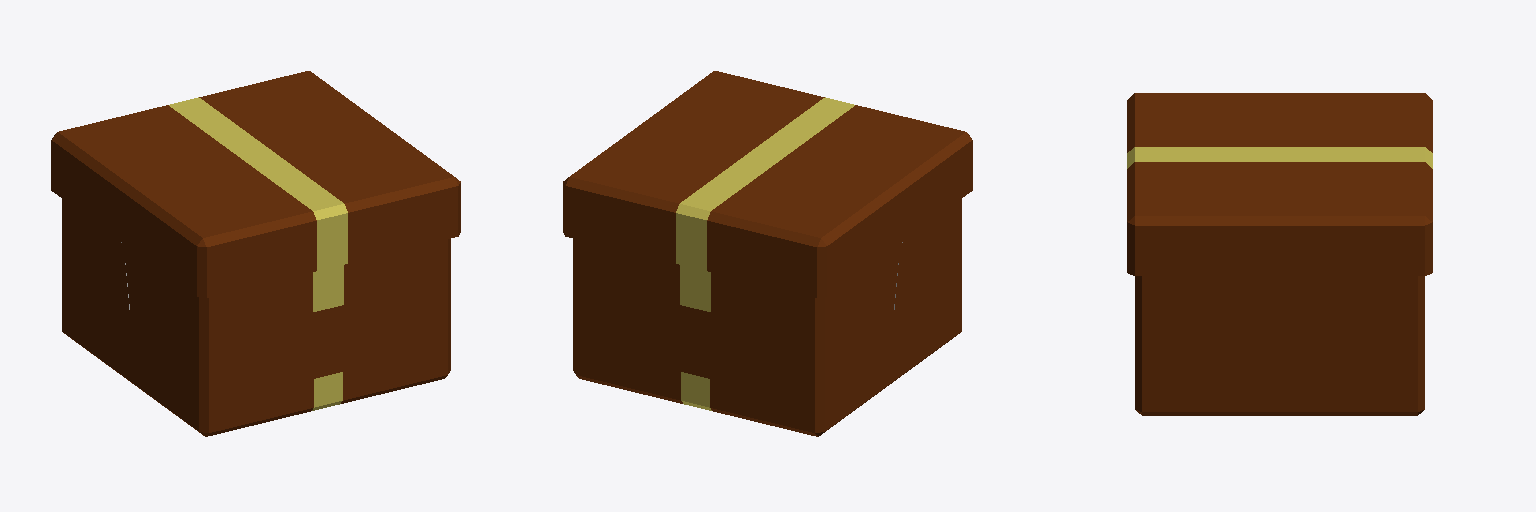
File: Cardboard.030.obj
3 renders of one model, left to right at view 1: azimuth 30°, elevation 25°; view 2: azimuth 150°, elevation 25°; view 3: azimuth 270°, elevation 25°, orthographic.
Visible parts, largest first — view 1: Cardboard.030_Cube.039; view 2: Cardboard.030_Cube.039; view 3: Cardboard.030_Cube.039.
Boxes of the visible parts, box(x1,y1,x2,y2) form: Cardboard.030_Cube.039: box(51, 71, 460, 436); Cardboard.030_Cube.039: box(563, 71, 972, 436); Cardboard.030_Cube.039: box(1127, 93, 1432, 415).
Size of the model in its own units: 0.4786 by 0.3512 by 0.478.